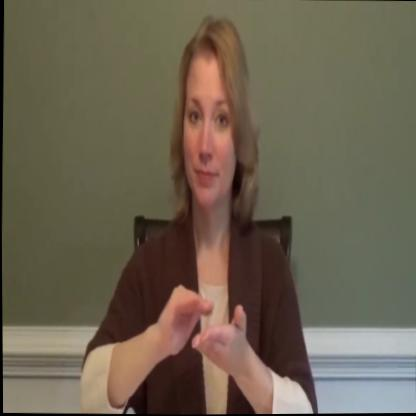ExcuseMe: (76, 11, 318, 416)
